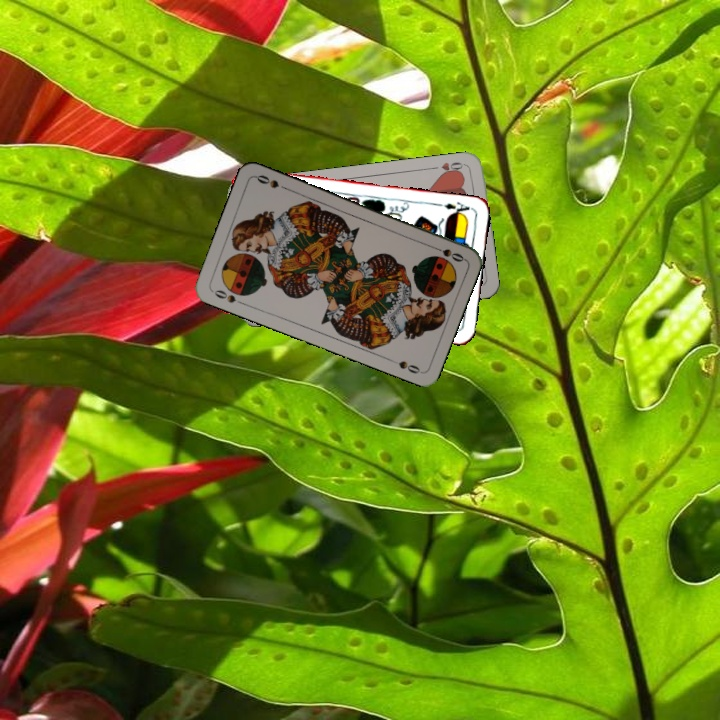EA: (440, 197, 474, 218)
HO: (428, 158, 468, 177)
SO: (208, 285, 247, 308), (428, 242, 467, 264)
